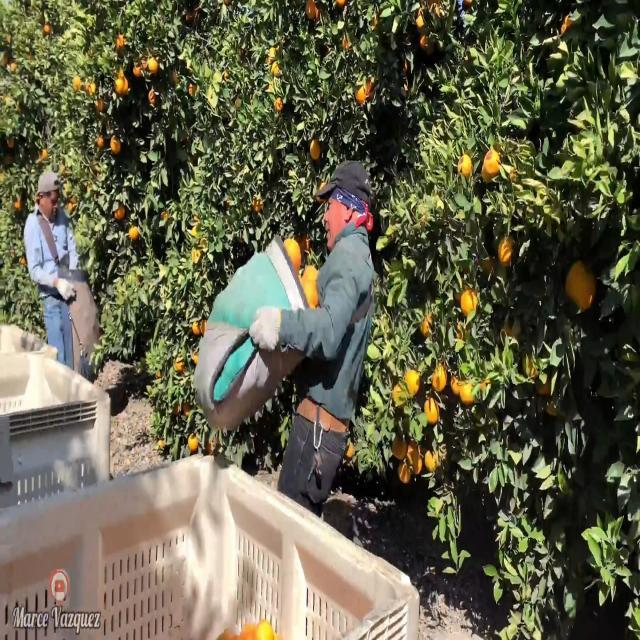Jeruk Sudah Matang: (562, 254, 598, 314), (481, 142, 506, 188), (457, 282, 480, 318), (455, 150, 475, 187)
